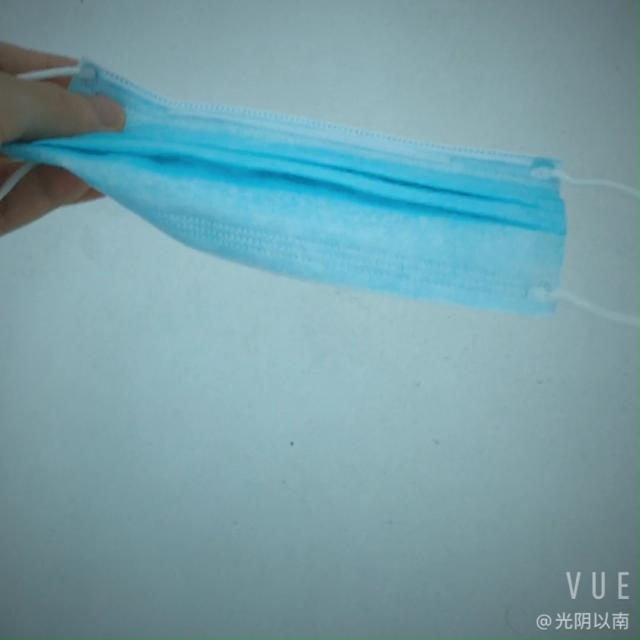non-organic waste: (66, 102, 558, 311)
